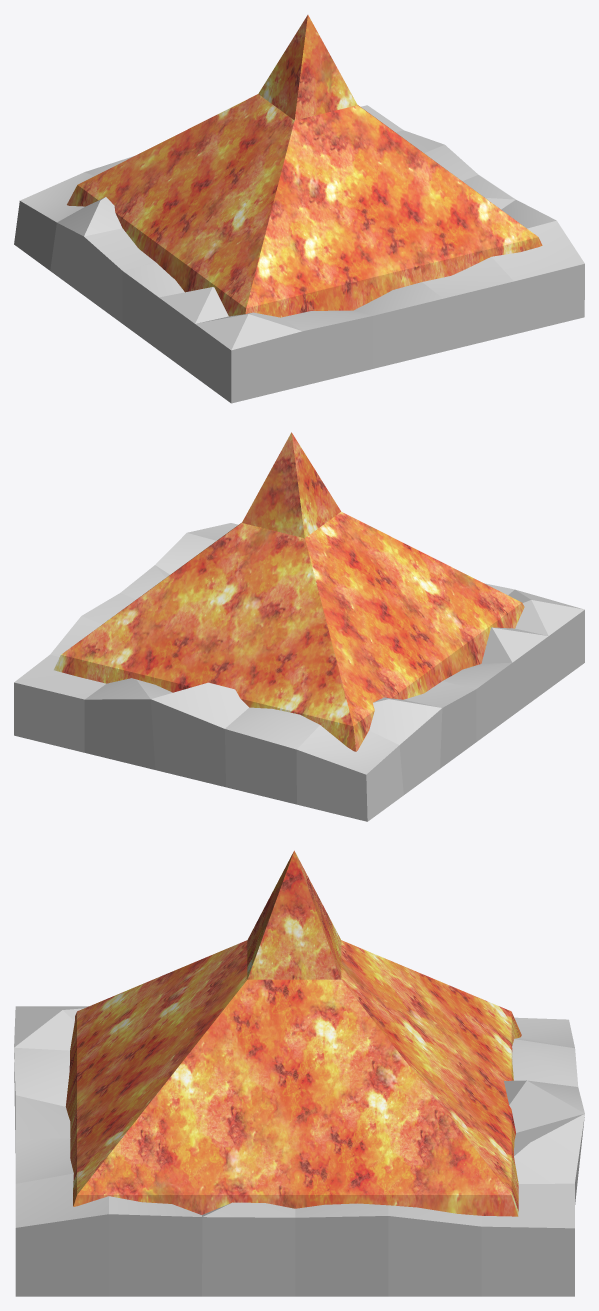
File: SM_ICE_03_02.fbx
3 renders of one model, top to bottom at view 1: azimuth 30°, elevation 25°; view 2: azimuth 150°, elevation 25°; view 3: azimuth 270°, elevation 25°, orthographic. The views are drawn at different scales.
Parts seen in each view (by area): view 1: SM_ICE_03_00, SM_ICE_03_02.028, SM_ICE_03_02.008, SM_ICE_03_02.009, SM_ICE_03_02.012, SM_ICE_03_02.029, SM_ICE_03_02.022, SM_ICE_03_02.026, SM_ICE_03_02.019, SM_ICE_03_02.020, SM_ICE_03_02.025, SM_ICE_03_02.002 (+2 smaller); view 2: SM_ICE_03_00, SM_ICE_03_02.019, SM_ICE_03_02.017, SM_ICE_03_02.018, SM_ICE_03_02.030, SM_ICE_03_02.003, SM_ICE_03_02.020, SM_ICE_03_02.028, SM_ICE_03_02.026, SM_ICE_03_02.022, SM_ICE_03_02.025, SM_ICE_03_02.007 (+3 smaller); view 3: SM_ICE_03_00, SM_ICE_03_02.008, SM_ICE_03_02.030, SM_ICE_03_02.007, SM_ICE_03_02.002, SM_ICE_03_02.006, SM_ICE_03_02.001, SM_ICE_03_02.003, SM_ICE_03_02.017, SM_ICE_03_02.029, SM_ICE_03_02.028, SM_ICE_03_02.018 (+3 smaller).
Part boxes in pixels (bbox=[...]): SM_ICE_03_00: bbox=[67, 15, 542, 317]; SM_ICE_03_02.028: bbox=[195, 312, 302, 403]; SM_ICE_03_02.008: bbox=[492, 220, 584, 334]; SM_ICE_03_02.009: bbox=[422, 257, 513, 351]; SM_ICE_03_02.012: bbox=[354, 282, 443, 368]; SM_ICE_03_02.029: bbox=[281, 310, 372, 386]; SM_ICE_03_02.022: bbox=[84, 228, 156, 323]; SM_ICE_03_02.026: bbox=[159, 287, 228, 376]; SM_ICE_03_02.019: bbox=[14, 172, 93, 270]; SM_ICE_03_02.020: bbox=[50, 197, 122, 296]; SM_ICE_03_02.025: bbox=[122, 263, 184, 350]; SM_ICE_03_02.002: bbox=[424, 145, 477, 180]; SM_ICE_03_00: bbox=[54, 432, 524, 751]; SM_ICE_03_02.019: bbox=[296, 725, 403, 821]; SM_ICE_03_02.017: bbox=[150, 682, 248, 787]; SM_ICE_03_02.018: bbox=[224, 707, 319, 804]; SM_ICE_03_02.030: bbox=[14, 654, 105, 752]; SM_ICE_03_02.003: bbox=[84, 678, 172, 769]; SM_ICE_03_02.020: bbox=[369, 697, 442, 794]; SM_ICE_03_02.028: bbox=[508, 589, 584, 688]; SM_ICE_03_02.026: bbox=[481, 627, 548, 715]; SM_ICE_03_02.022: bbox=[404, 681, 476, 768]; SM_ICE_03_02.025: bbox=[442, 662, 512, 741]; SM_ICE_03_02.007: bbox=[155, 533, 216, 574]; SM_ICE_03_00: bbox=[65, 850, 521, 1216]; SM_ICE_03_02.008: bbox=[15, 1173, 108, 1296]; SM_ICE_03_02.030: bbox=[481, 1183, 574, 1296]; SM_ICE_03_02.007: bbox=[109, 1196, 202, 1296]; SM_ICE_03_02.002: bbox=[295, 1203, 388, 1296]; SM_ICE_03_02.006: bbox=[202, 1202, 295, 1296]; SM_ICE_03_02.001: bbox=[388, 1205, 481, 1296]; SM_ICE_03_02.003: bbox=[514, 1113, 584, 1204]; SM_ICE_03_02.017: bbox=[504, 1080, 584, 1132]; SM_ICE_03_02.029: bbox=[14, 1047, 69, 1152]; SM_ICE_03_02.028: bbox=[14, 1006, 88, 1050]; SM_ICE_03_02.018: bbox=[512, 1039, 578, 1086].
Bounding box in the file's own units: 3881 × 2695 × 4095.
